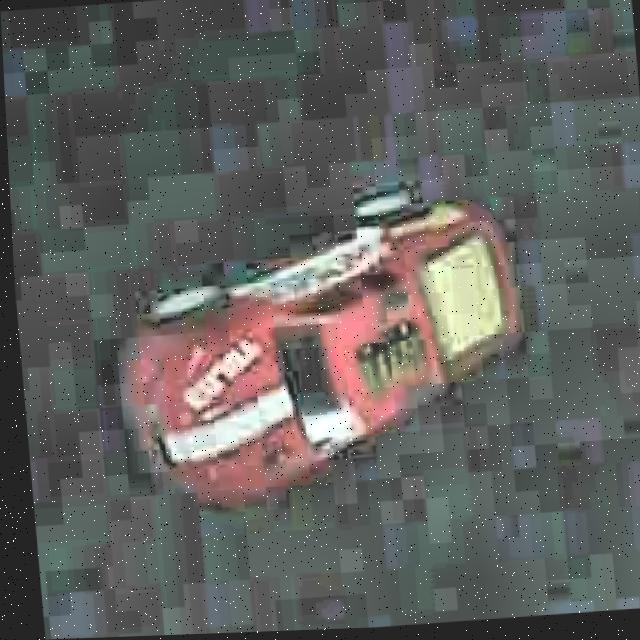car: (94, 167, 545, 523)
